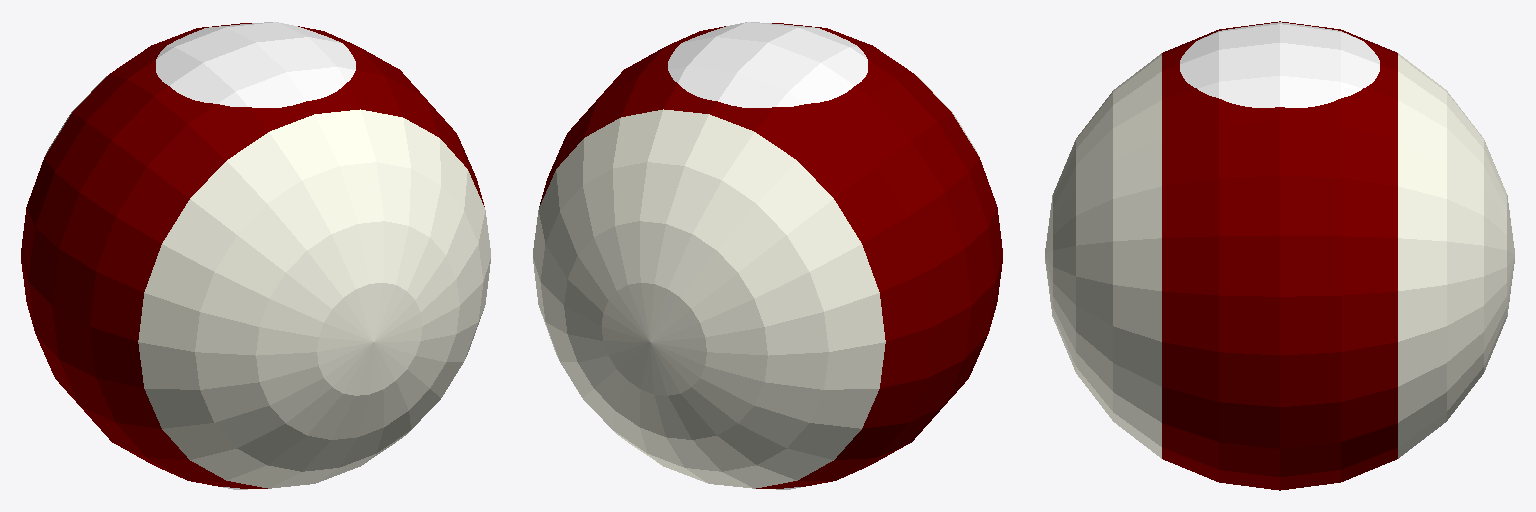
3 renders of one model, left to right at view 1: azimuth 30°, elevation 25°; view 2: azimuth 150°, elevation 25°; view 3: azimuth 270°, elevation 25°, orthographic.
Visible parts, largest first — view 1: Mesh02_1, band1_3, top__15_1_9; view 2: Mesh01_0, band1_3, top__15_1_9; view 3: band1_3, Mesh01_0, Mesh02_1, top__15_1_9.
Part boxes in pixels (bbox=[...]): Mesh02_1: bbox=[138, 109, 490, 488]; band1_3: bbox=[21, 23, 484, 488]; top__15_1_9: bbox=[156, 22, 355, 107]; Mesh01_0: bbox=[533, 109, 885, 488]; band1_3: bbox=[539, 23, 1002, 488]; top__15_1_9: bbox=[668, 22, 867, 107]; band1_3: bbox=[1162, 21, 1397, 490]; Mesh01_0: bbox=[1398, 53, 1514, 458]; Mesh02_1: bbox=[1045, 53, 1161, 458]; top__15_1_9: bbox=[1180, 22, 1379, 107].
Size of the model in its own units: 2.25 by 2.25 by 2.25.